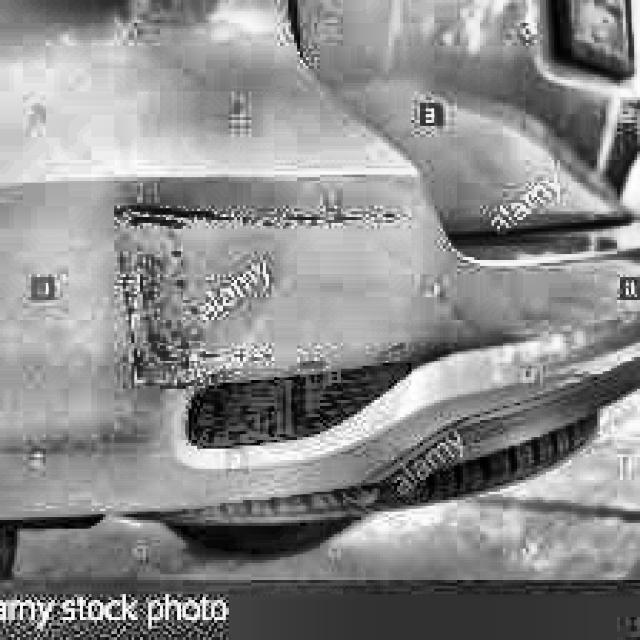bumper_scratch: (107, 198, 415, 392)
